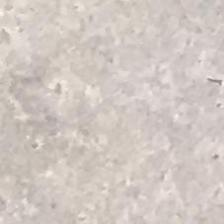Non_Crack: (22, 48, 185, 175)
